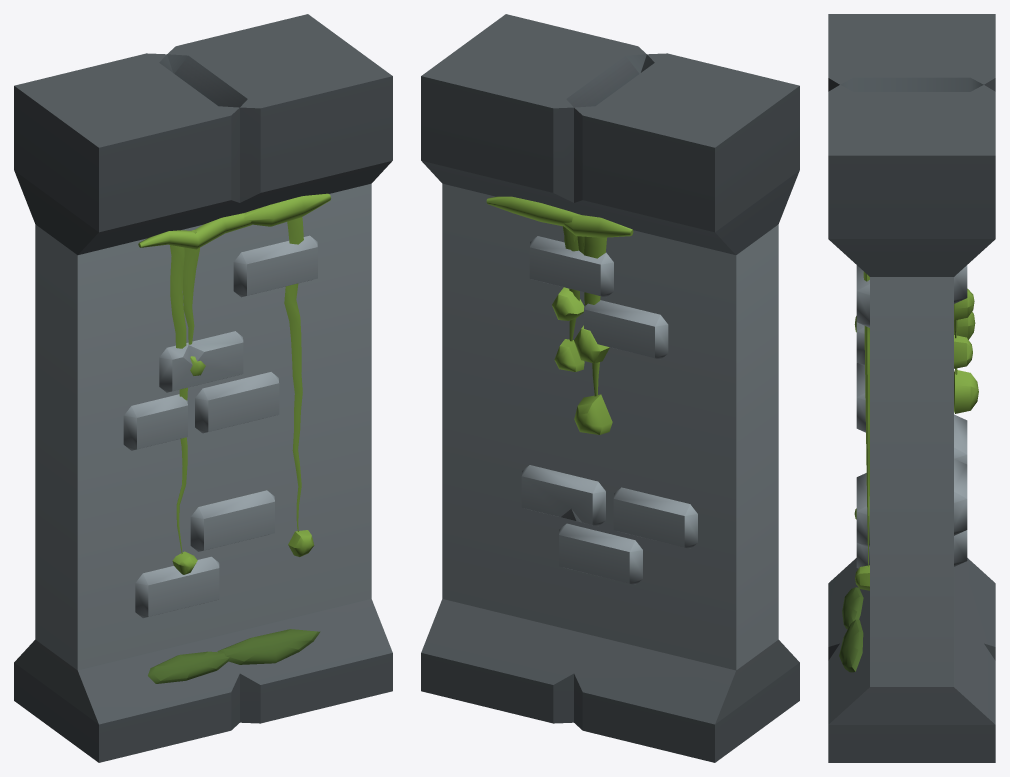
File: wall_slimy_half_A.glb
3 views of the same model, side by side, from view 1: azimuth 30°, elevation 25°; view 2: azimuth 150°, elevation 25°; view 3: azimuth 270°, elevation 25° (orthographic).
Parts seen in each view (by area): view 1: Item; view 2: Item; view 3: Item.
Boxes of the visible parts, bbox=[...] form: Item: bbox=[14, 14, 392, 762]; Item: bbox=[421, 14, 799, 762]; Item: bbox=[828, 14, 995, 762].
Size of the model in its own units: 2 by 4 by 1.
Materials: 3 (3 with a texture image).
